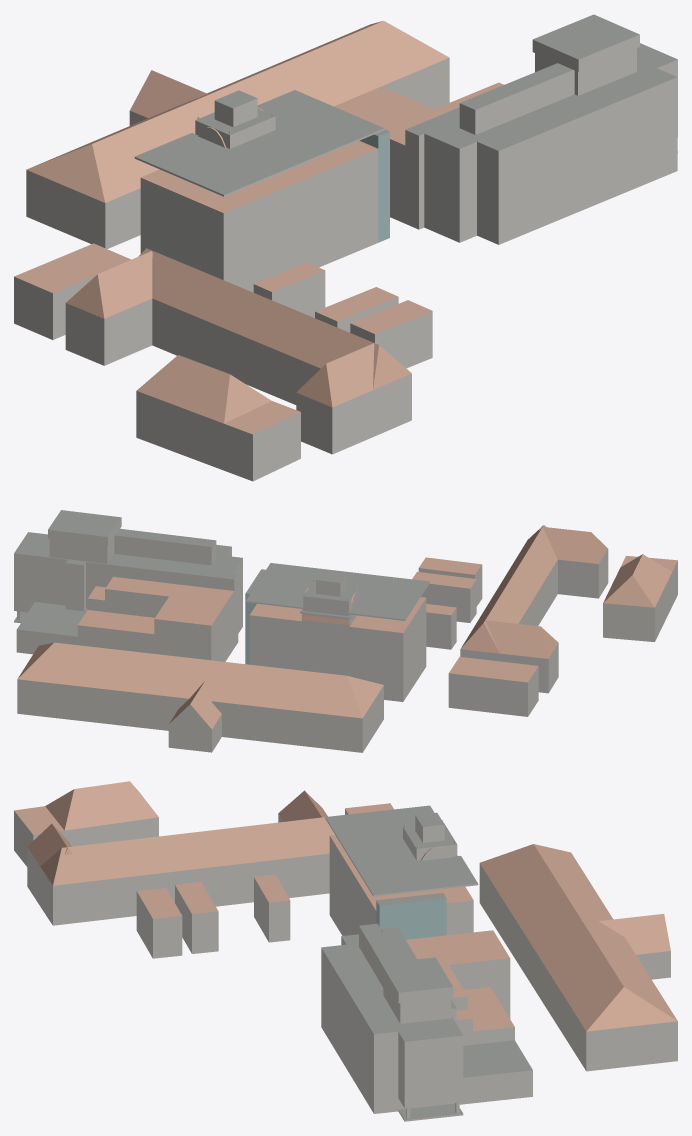
File: gridID_47.dae
The picture shows the model from 3 angles, top to bottom: view 1: azimuth 30°, elevation 25°; view 2: azimuth 150°, elevation 25°; view 3: azimuth 270°, elevation 25°; orthographic projection. The views are drawn at different scales.
Parts seen in each view (by area): view 1: model_gridID_47_w114518343_001, model_gridID_47_w114518343_002, model_gridID_47_w379069938, model_gridID_47_w114518343, model_gridID_47_w379069938_004, model_gridID_47_w379069939, model_gridID_47_w379069938_001, model_gridID_47_w379069944, model_gridID_47_w379069938_003, model_gridID_47_w383041043_001, model_gridID_47_w379069938_005; view 2: model_gridID_47_w114518343_001, model_gridID_47_w114518343, model_gridID_47_w114518343_002, model_gridID_47_w379069938, model_gridID_47_w379069938_004, model_gridID_47_w379069939, model_gridID_47_w383041043_001, model_gridID_47_w379069938_005, model_gridID_47_w379069938_003, model_gridID_47_w379069944, model_gridID_47_w379069938_001; view 3: model_gridID_47_w114518343_001, model_gridID_47_w114518343, model_gridID_47_w379069938, model_gridID_47_w114518343_002, model_gridID_47_w379069938_004, model_gridID_47_w379069944, model_gridID_47_w379069938_005, model_gridID_47_w379069938_003, model_gridID_47_w379069938_001, model_gridID_47_w383041043_001.
Part boxes in pixels (x1,y1,x2,y2): model_gridID_47_w114518343_001: (334,14,677,244); model_gridID_47_w114518343_002: (134,90,389,292); model_gridID_47_w379069938: (65,248,411,454); model_gridID_47_w114518343: (26,21,449,248); model_gridID_47_w379069938_004: (136,355,271,470); model_gridID_47_w379069939: (14,243,131,339); model_gridID_47_w379069938_001: (224,401,300,481); model_gridID_47_w379069944: (350,300,432,368); model_gridID_47_w379069938_003: (253,262,325,317); model_gridID_47_w383041043_001: (195,101,275,148); model_gridID_47_w379069938_005: (315,287,398,332); model_gridID_47_w114518343_001: (14,510,242,661); model_gridID_47_w114518343: (17,642,383,752); model_gridID_47_w114518343_002: (245,563,429,701); model_gridID_47_w379069938: (460,525,608,693); model_gridID_47_w379069938_004: (603,554,672,641); model_gridID_47_w379069939: (448,656,538,716); model_gridID_47_w383041043_001: (301,575,358,675); model_gridID_47_w379069938_005: (412,571,476,622); model_gridID_47_w379069938_003: (426,604,456,649); model_gridID_47_w379069944: (418,557,482,606); model_gridID_47_w379069938_001: (621,555,677,605); model_gridID_47_w114518343_001: (321,923,532,1121); model_gridID_47_w114518343: (479,844,677,1071); model_gridID_47_w379069938: (27,790,334,925); model_gridID_47_w114518343_002: (325,805,478,939); model_gridID_47_w379069938_004: (45,781,158,846); model_gridID_47_w379069944: (136,888,182,958); model_gridID_47_w379069938_005: (175,882,218,953); model_gridID_47_w379069938_003: (254,874,290,942); model_gridID_47_w379069938_001: (14,806,64,866); model_gridID_47_w383041043_001: (403,822,457,860).
Size of the model in its own units: 117 by 113 by 23.5.
